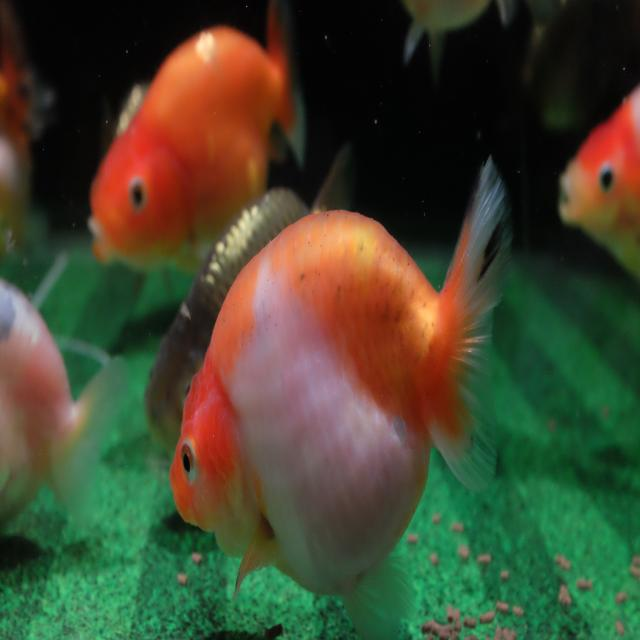Tilapia: (168, 154, 518, 640), (86, 0, 309, 284), (0, 276, 127, 538), (554, 87, 640, 280)
